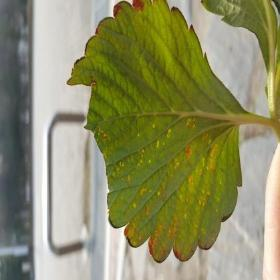Angular Leafspot: (92, 116, 239, 263)
